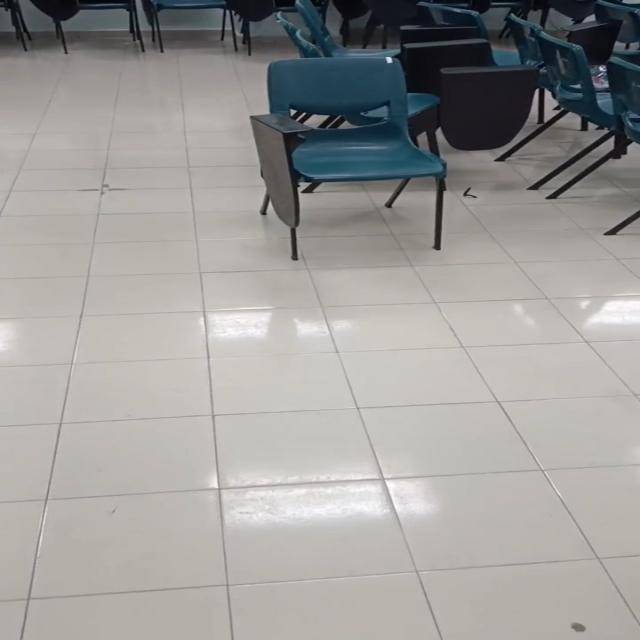sandalye: (250, 54, 446, 260)
